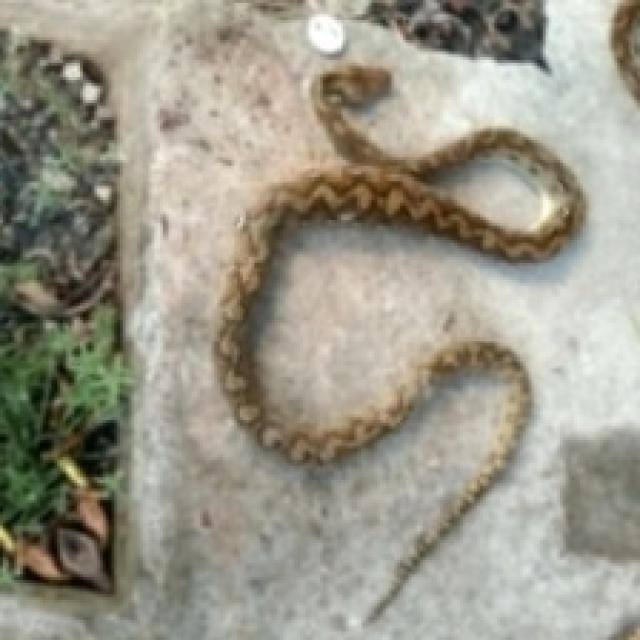reticulated python: (211, 60, 586, 560)
